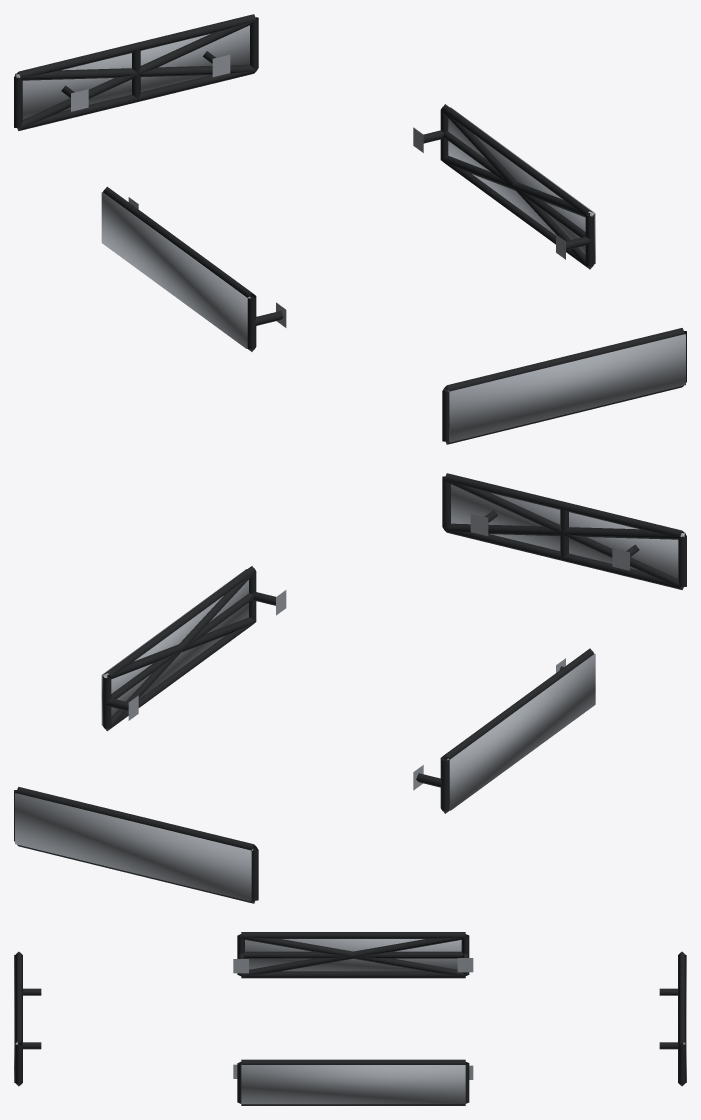
File: rauhe_quartzo_protecao.glb
The picture shows the model from 3 angles, top to bottom: view 1: azimuth 30°, elevation 25°; view 2: azimuth 150°, elevation 25°; view 3: azimuth 270°, elevation 25°; orthographic projection. The views are drawn at different scales.
Visible parts, largest first — view 1: Protection_front_Level3_Details, Protection_left_Level3_Details, Protection_rear_Level1_Details, Protection_rear_Level3_Details, Protection_right_Level1_Details, Protection_rear_Level2_Details, Protection_right_Level2_Details, Protection_right_Level3_Details, Protection_front_Level1_Details, Protection_left_Level1_Details; view 2: Protection_rear_Level3_Details, Protection_left_Level3_Details, Protection_front_Level1_Details, Protection_front_Level3_Details, Protection_right_Level1_Details, Protection_front_Level2_Details, Protection_right_Level2_Details, Protection_right_Level3_Details, Protection_rear_Level1_Details, Protection_left_Level1_Details; view 3: Protection_right_Level3_Details, Protection_left_Level2_Details, Protection_left_Level1_Details, Protection_left_Level3_Details, Protection_right_Level1_Details, Protection_rear_Level1_Details, Protection_front_Level1_Details.
Boxes of the visible parts, x1,y1,x2,y2 form: Protection_front_Level3_Details: (447, 334, 685, 442); Protection_left_Level3_Details: (101, 192, 250, 348); Protection_rear_Level1_Details: (14, 14, 258, 130); Protection_rear_Level3_Details: (15, 25, 249, 119); Protection_right_Level1_Details: (413, 104, 594, 269); Protection_rear_Level2_Details: (16, 21, 256, 129); Protection_right_Level2_Details: (441, 110, 592, 269); Protection_right_Level3_Details: (448, 107, 595, 263); Protection_front_Level1_Details: (442, 328, 686, 444); Protection_left_Level1_Details: (103, 186, 286, 351); Protection_rear_Level3_Details: (15, 793, 253, 901); Protection_left_Level3_Details: (446, 654, 595, 810); Protection_front_Level1_Details: (442, 473, 686, 589); Protection_front_Level3_Details: (451, 484, 685, 578); Protection_right_Level1_Details: (102, 566, 286, 731); Protection_front_Level2_Details: (444, 480, 684, 588); Protection_right_Level2_Details: (103, 572, 255, 730); Protection_right_Level3_Details: (101, 569, 248, 725); Protection_rear_Level1_Details: (14, 787, 258, 903); Protection_left_Level1_Details: (413, 648, 594, 813); Protection_right_Level3_Details: (241, 1065, 465, 1104); Protection_left_Level2_Details: (240, 934, 465, 976); Protection_left_Level1_Details: (233, 932, 473, 978); Protection_left_Level3_Details: (245, 939, 461, 971); Protection_right_Level1_Details: (233, 1059, 473, 1105); Protection_rear_Level1_Details: (659, 951, 685, 1086); Protection_front_Level1_Details: (15, 951, 41, 1086).
Bounding box in the file's own units: 2.17 × 0.354 × 4.68.
1 material, 1 textured.
